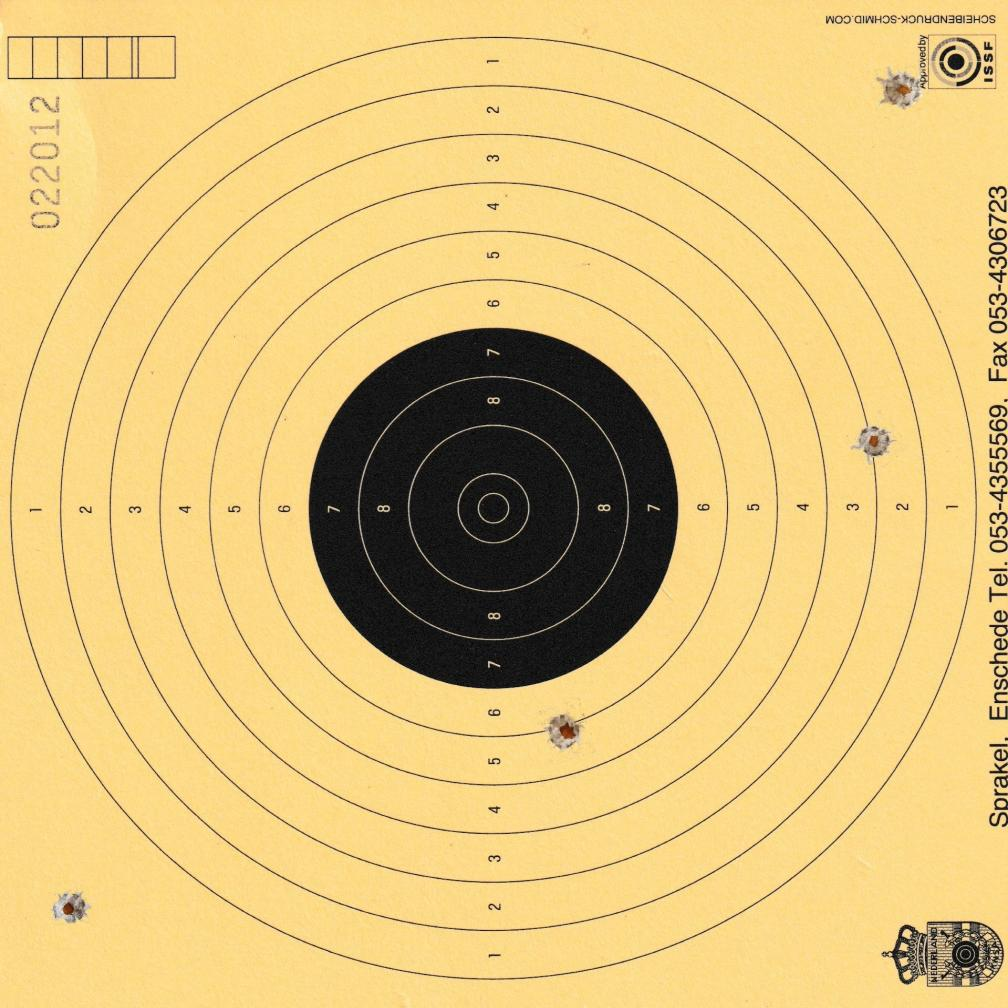0: (873, 61, 927, 114), (50, 886, 94, 926)
3: (849, 422, 898, 467)
6: (544, 709, 590, 752)
Target: (6, 26, 982, 987)
black_contour: (311, 326, 680, 690)
